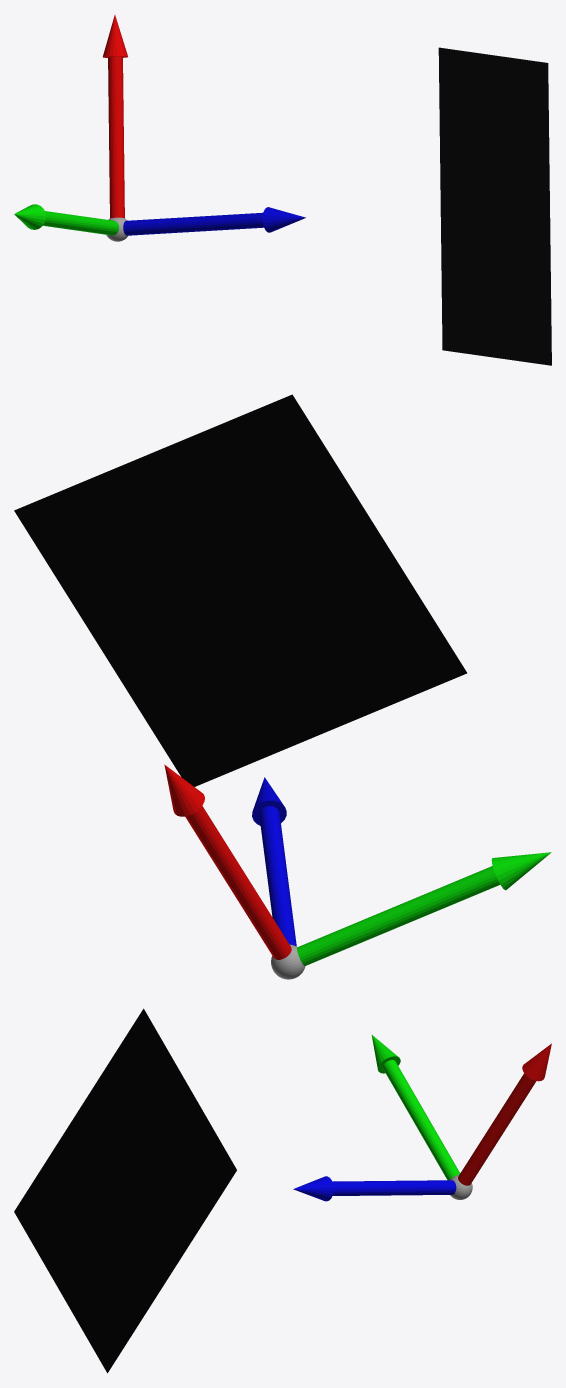
3 views of the same model, one above another, from view 1: azimuth 30°, elevation 25°; view 2: azimuth 150°, elevation 25°; view 3: azimuth 270°, elevation 25° (orthographic). The views are drawn at different scales.
Size of the model in its own units: 0.3118 by 0.2099 by 0.3197.
